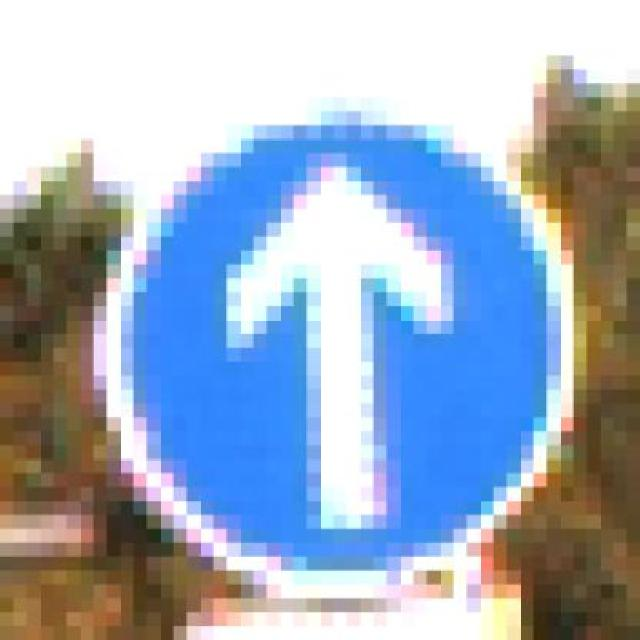Straight Ahead Only: (79, 97, 587, 598)
